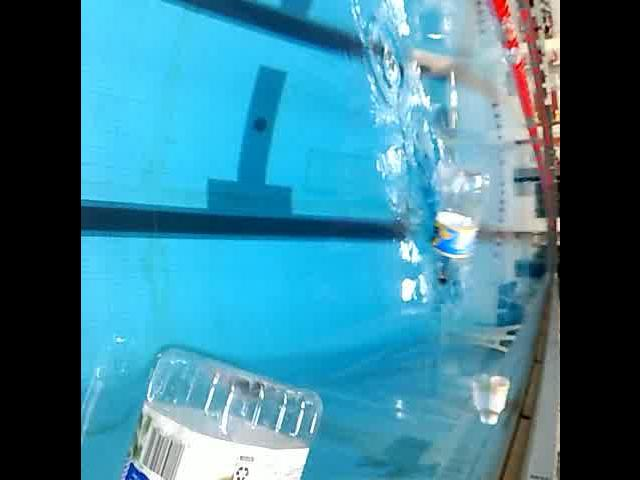Bottle: (99, 341, 328, 480), (422, 146, 494, 304), (479, 368, 515, 430)
